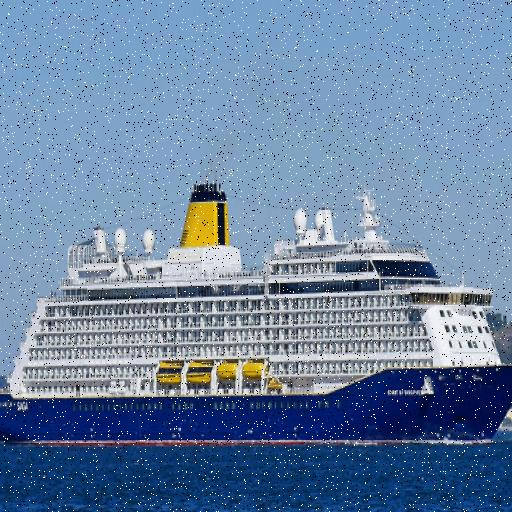cruises: (1, 170, 512, 455)
